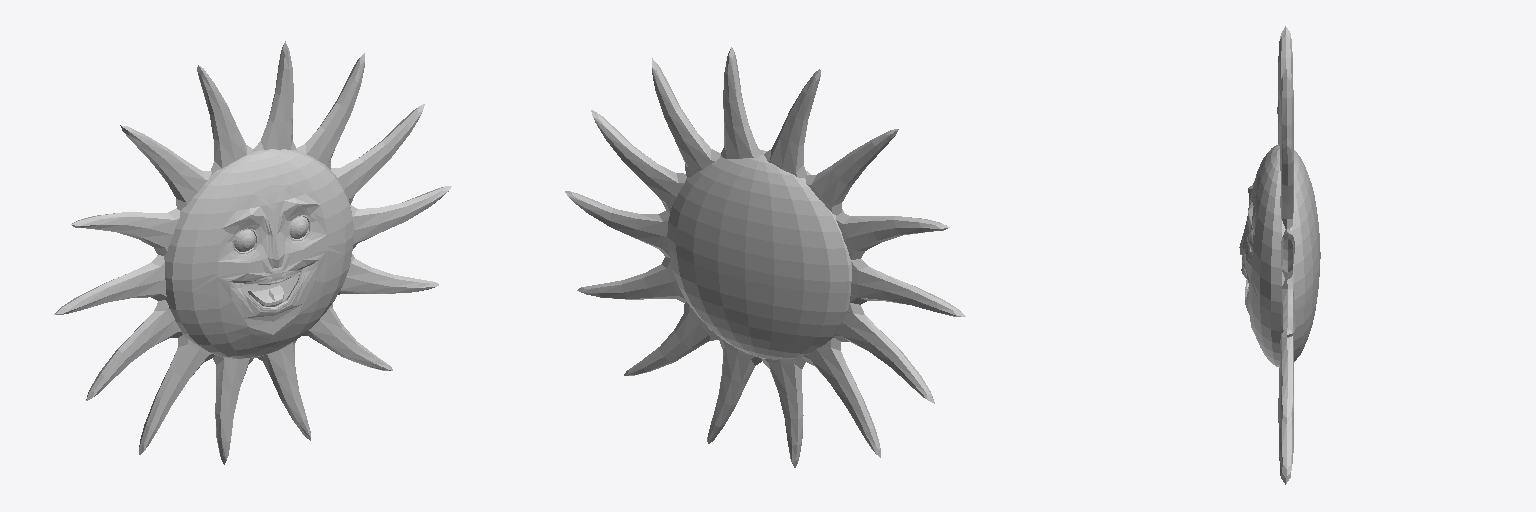
File: sun.obj
3 views of the same model, side by side, from view 1: azimuth 30°, elevation 25°; view 2: azimuth 150°, elevation 25°; view 3: azimuth 270°, elevation 25° (orthographic).
Parts seen in each view (by area): view 1: the_sun; view 2: the_sun; view 3: the_sun.
Part boxes in pixels (left/top/right/bottom): the_sun: left=54, top=41, right=451, bottom=464; the_sun: left=565, top=47, right=965, bottom=467; the_sun: left=1239, top=26, right=1320, bottom=484.
Size of the model in its own units: 65.28 by 63.59 by 11.47.